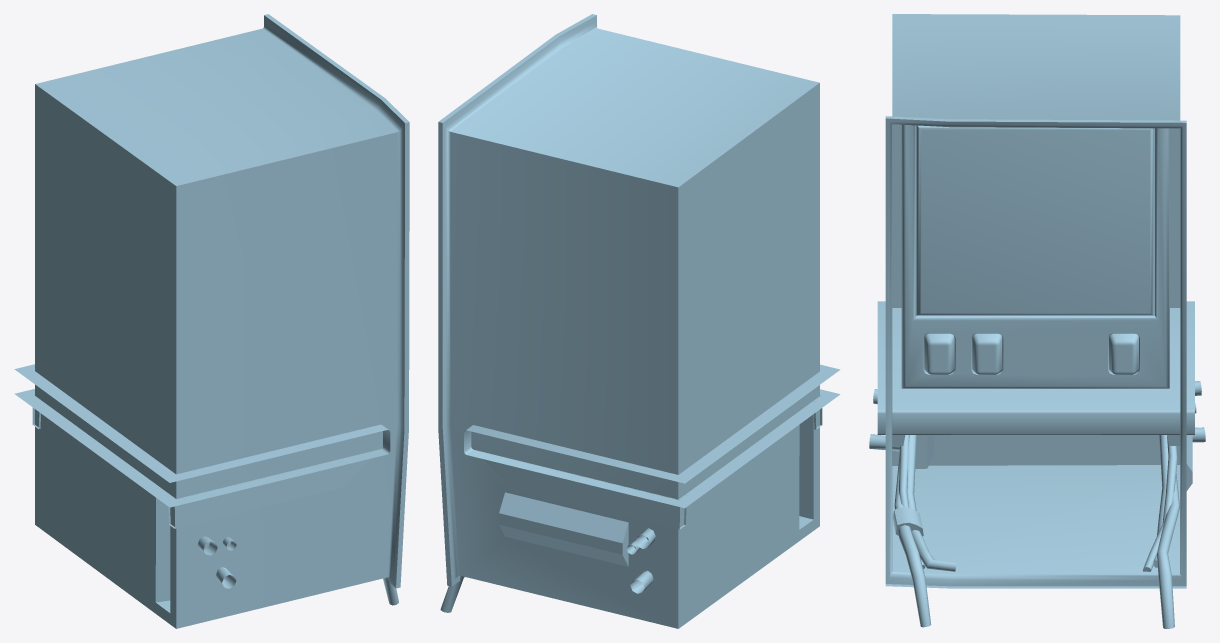
The model's file is aircraftArmoredMilitaryBC.fbx.
3 views of the same model, side by side, from view 1: azimuth 30°, elevation 25°; view 2: azimuth 150°, elevation 25°; view 3: azimuth 270°, elevation 25° (orthographic). The views are drawn at different scales.
Parts seen in each view (by area): view 1: PC_low; view 2: PC_low; view 3: PC_low.
Part boxes in pixels (bbox=[...]): PC_low: bbox=[14, 14, 409, 628]; PC_low: bbox=[438, 14, 840, 628]; PC_low: bbox=[869, 14, 1205, 628].
Bounding box in the file's own units: 52.14 × 96.54 × 58.12.
